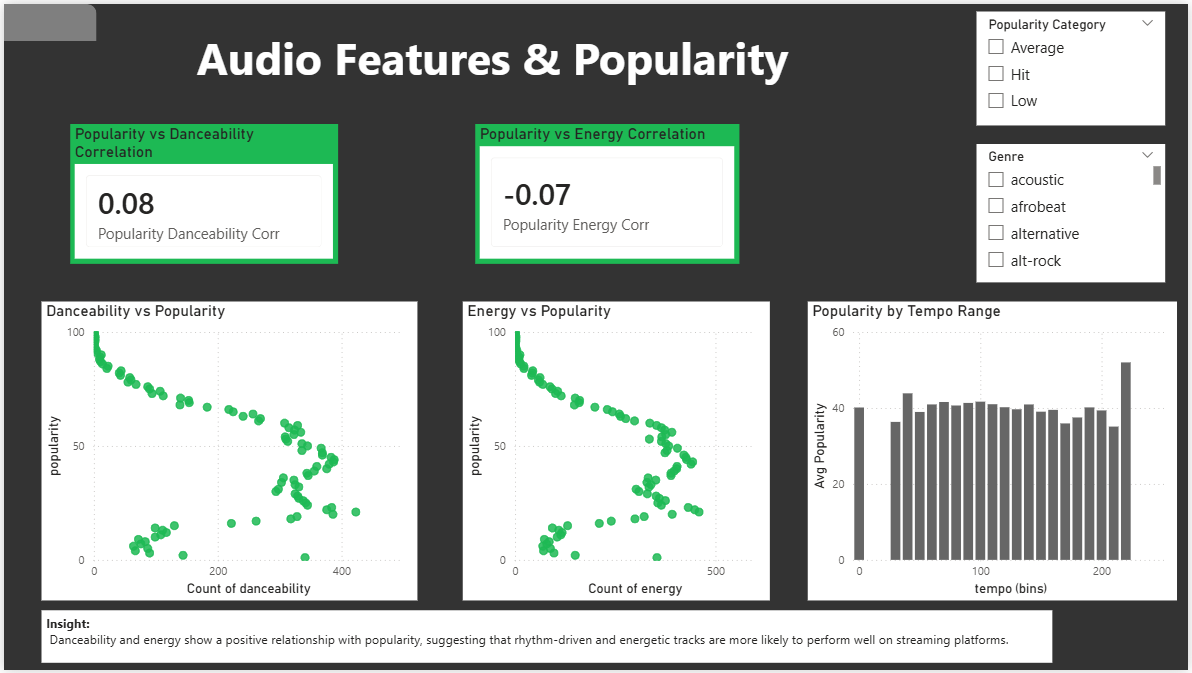

Layout of this report page (visuals, bound fields, positions):
{"tool":"powerbi","page":{"name":"Audio Features & Popularity","canvas":[1280,720],"ordinal":2},"visuals":[{"type":"textbox","box":[188,20.6,680.6,98.8],"z":0},{"type":"cardVisual","title":"Popularity vs Danceability Correlation","fields":{"Data":["Spotify_Tracks.Popularity Danceability Corr"]},"box":[71.2,129.1,289.5,150.8],"z":1000},{"type":"cardVisual","title":"Popularity vs Energy Correlation","fields":{"Data":["Spotify_Tracks.Popularity Energy Corr"]},"box":[509.1,129.1,285.9,150.8],"z":2000},{"type":"scatterChart","title":"Danceability vs Popularity","fields":{"X":["Count(Spotify_Tracks.danceability)"],"Y":["Spotify_Tracks.popularity"]},"box":[41,322.1,406.6,323.3],"z":3000},{"type":"scatterChart","title":"Energy vs Popularity","fields":{"X":["Count(Spotify_Tracks.energy)"],"Y":["Spotify_Tracks.popularity"]},"box":[495.8,322.1,331.8,323.3],"z":4000},{"type":"clusteredColumnChart","title":"Popularity by Tempo Range","fields":{"Category":["Spotify_Tracks.tempo (bins)"],"Y":["Spotify_Tracks.Avg Popularity"]},"box":[868.6,322.1,399.3,323.3],"z":5000},{"type":"slicer","fields":{"Values":["Spotify_Tracks.track_genre.1"]},"box":[1050.8,150.8,203.9,149.6],"z":6000},{"type":"slicer","fields":{"Values":["Spotify_Tracks.Popularity Category"]},"box":[1050.8,8.4,203.9,123.1],"z":7000},{"type":"textbox","box":[41,655.1,1093,56.7],"z":8000},{"type":"actionButton","box":[0,0,100,40],"z":9000}]}

Visuals, with their boxes in screenshot pixels (x1, y1, x2, y2), scaled from the page's 1280x720 canvas onto the 1192x673 screenshot:
textbox: [left=175, top=19, right=809, bottom=112]
"Popularity vs Danceability Correlation" cardVisual: [left=66, top=121, right=336, bottom=262]
"Popularity vs Energy Correlation" cardVisual: [left=474, top=121, right=740, bottom=262]
"Danceability vs Popularity" scatterChart: [left=38, top=301, right=417, bottom=603]
"Energy vs Popularity" scatterChart: [left=462, top=301, right=771, bottom=603]
"Popularity by Tempo Range" clusteredColumnChart: [left=809, top=301, right=1181, bottom=603]
slicer - Spotify_Tracks.track_genre.1: [left=979, top=141, right=1168, bottom=281]
slicer - Spotify_Tracks.Popularity Category: [left=979, top=8, right=1168, bottom=123]
textbox: [left=38, top=612, right=1056, bottom=665]
actionButton: [left=0, top=0, right=93, bottom=37]
